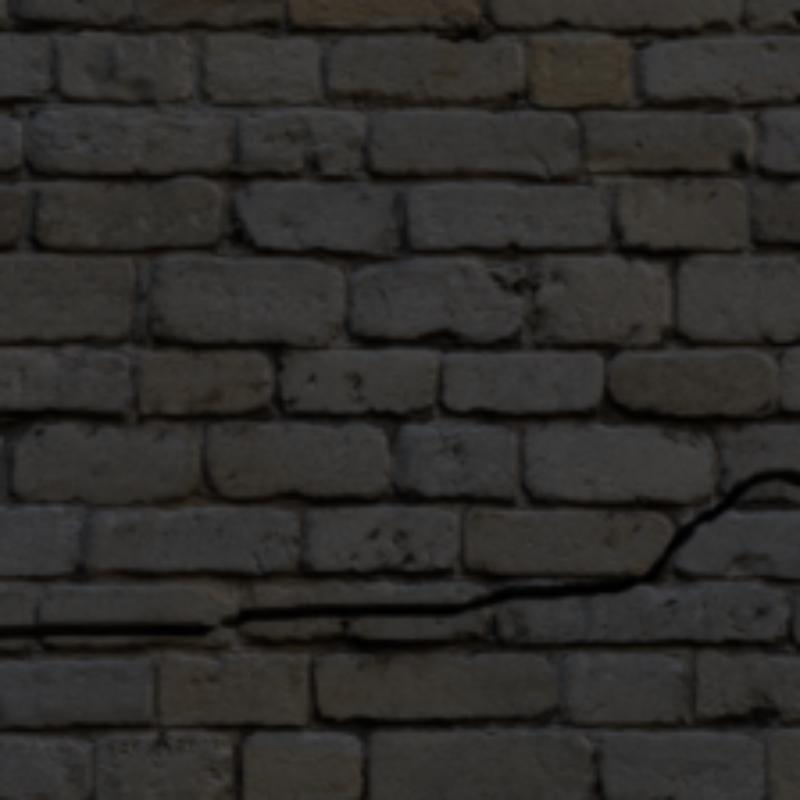crack: (0, 468, 796, 636)
